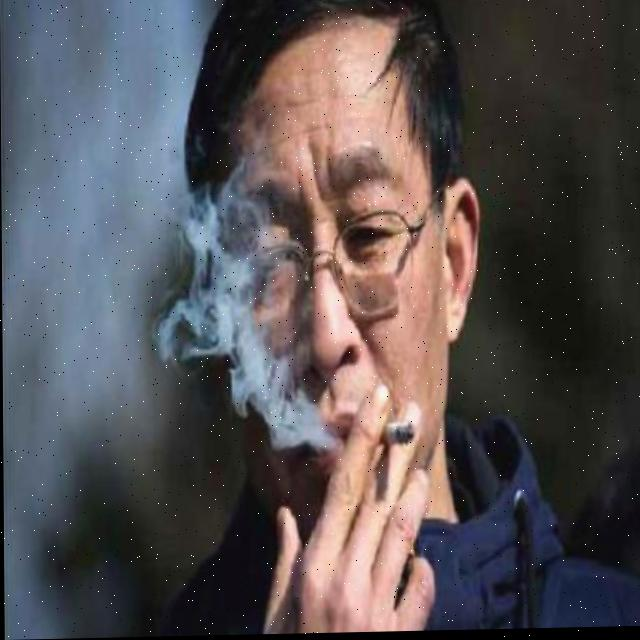cigarette: (378, 418, 417, 452)
